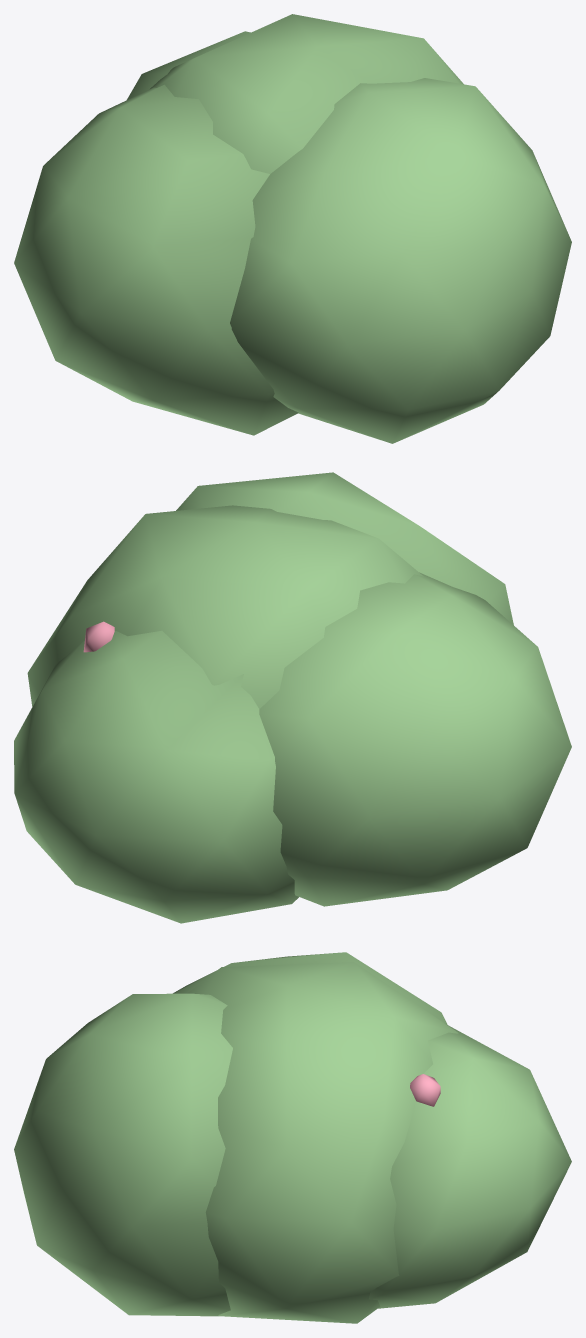
Rendered from VBush_A.fbx.
The picture shows the model from 3 angles, top to bottom: view 1: azimuth 30°, elevation 25°; view 2: azimuth 150°, elevation 25°; view 3: azimuth 270°, elevation 25°; orthographic projection. The views are drawn at different scales.
Parts seen in each view (by area): view 1: VBush_A; view 2: VBush_A; view 3: VBush_A.
Part boxes in pixels (bbox=[...]): VBush_A: bbox=[14, 14, 571, 443]; VBush_A: bbox=[14, 472, 571, 923]; VBush_A: bbox=[14, 952, 571, 1323].
Bounding box in the file's own units: 0.793 × 0.5653 × 0.9051.
